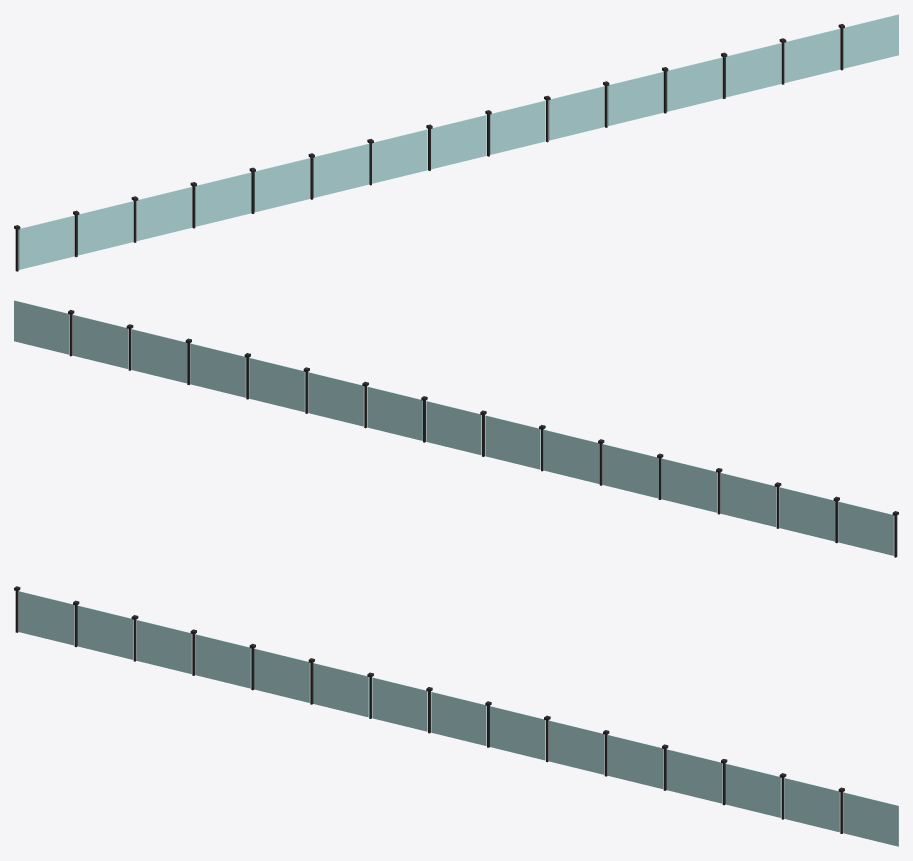
Rendered from Balcony.021.fbx.
3 renders of one model, top to bottom at view 1: azimuth 30°, elevation 25°; view 2: azimuth 150°, elevation 25°; view 3: azimuth 330°, elevation 25°, orthographic.
Visible parts, largest first — view 1: Balcony.021; view 2: Balcony.021; view 3: Balcony.021.
Part boxes in pixels (x1,y1,x2,y2): Balcony.021: (14, 14, 898, 271); Balcony.021: (14, 300, 898, 557); Balcony.021: (14, 586, 898, 846).
Bounding box in the file's own units: 9052 × 437 × 44.44.
